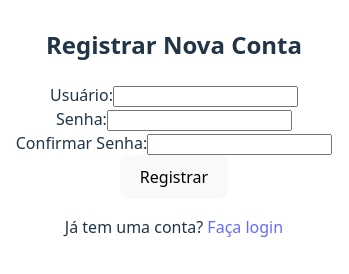
Test case: RegistrationPage › should display an error message on failed registration (e.g., username exists)
Type "existinguser" into the field labelled "Usuário:" at [206, 97], box [113,86,298,107]
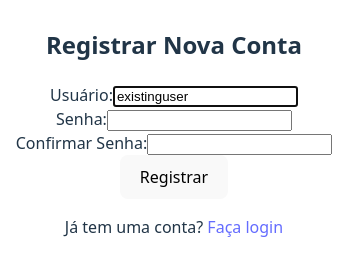
Type "password123" into the password field labelled "Senha:" at [199, 121], box [107,110,292,131]
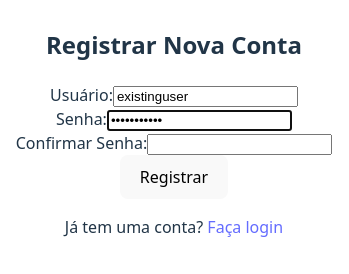
Type "password123" into the password field labelled "Confirmar Senha:" at [240, 145], box [147,134,332,155]
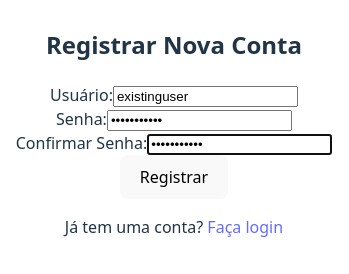
Click the button "Registrar" at [174, 177], box [120,155,228,198]
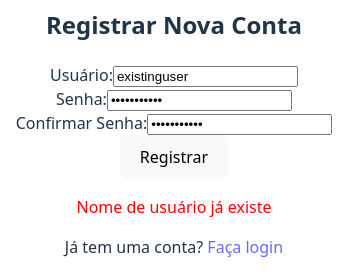
Result: the text "Nome de usuário já existe" is shown at [76,196,272,218]
